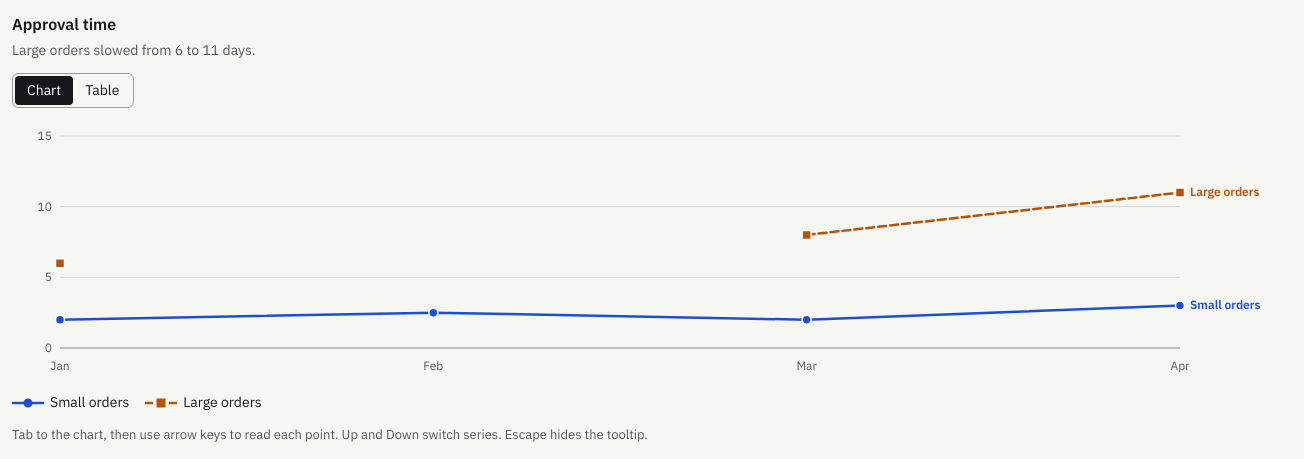
it: AccessibleChart › renders the same data as a table with caption and headers
Click the radio button labelled "Table" at (102, 90), box [85,81,119,99]
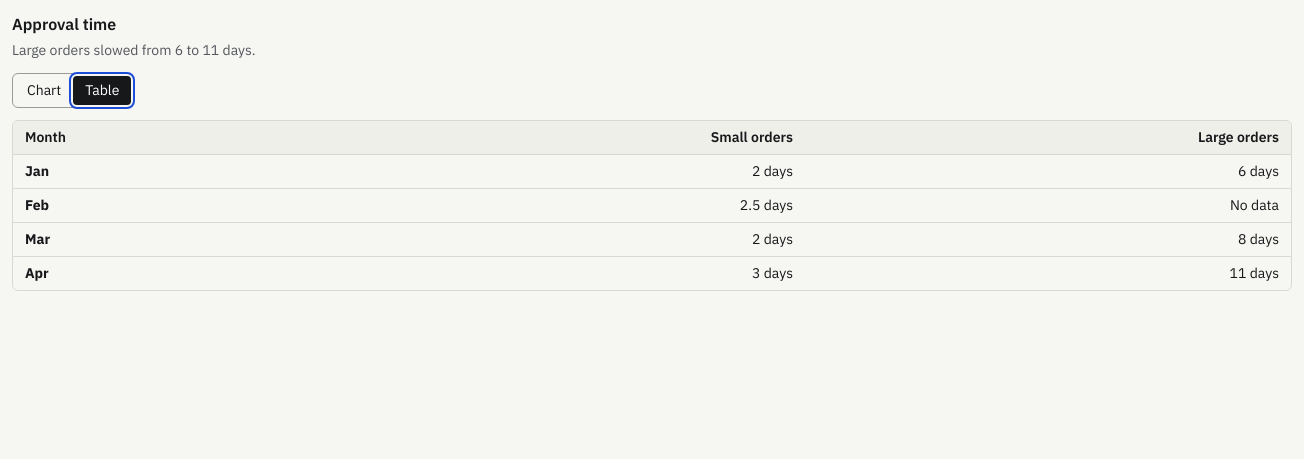
Expected: the column heading "Apr" is shown, [13,256,314,290]
Now the column headings read "Month", "Small orders", "Large orders", in this order, box [13,121,314,154]; [314,121,805,154]; [805,121,1291,154]
Now the cell "11 days" is shown, box [805,256,1291,290]
